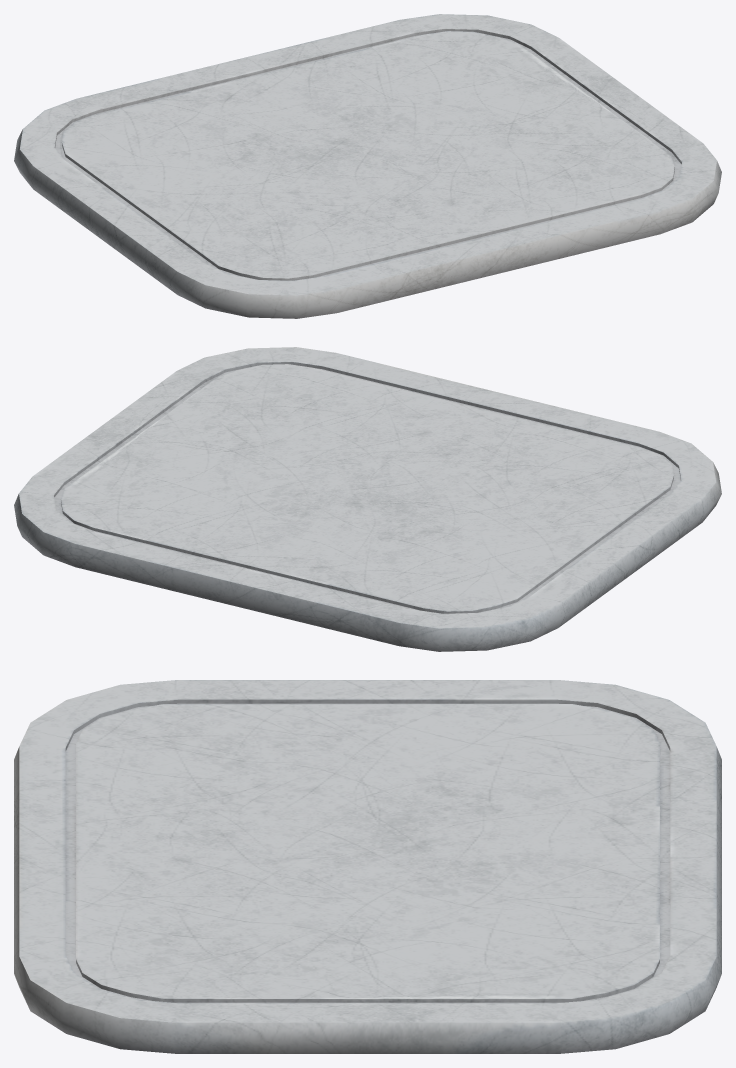
Rendered from CuttingBoard.fbx.
3 renders of one model, top to bottom at view 1: azimuth 30°, elevation 25°; view 2: azimuth 150°, elevation 25°; view 3: azimuth 270°, elevation 25°, orthographic. The views are drawn at different scales.
Parts seen in each view (by area): view 1: Cutting_board1; view 2: Cutting_board1; view 3: Cutting_board1.
Boxes of the visible parts, x1,y1,x2,y2 form: Cutting_board1: [14, 14, 721, 318]; Cutting_board1: [14, 347, 721, 651]; Cutting_board1: [14, 680, 721, 1053].
Bounding box in the file's own units: 85.34 × 3.56 × 73.41.
1 material, 1 textured.
